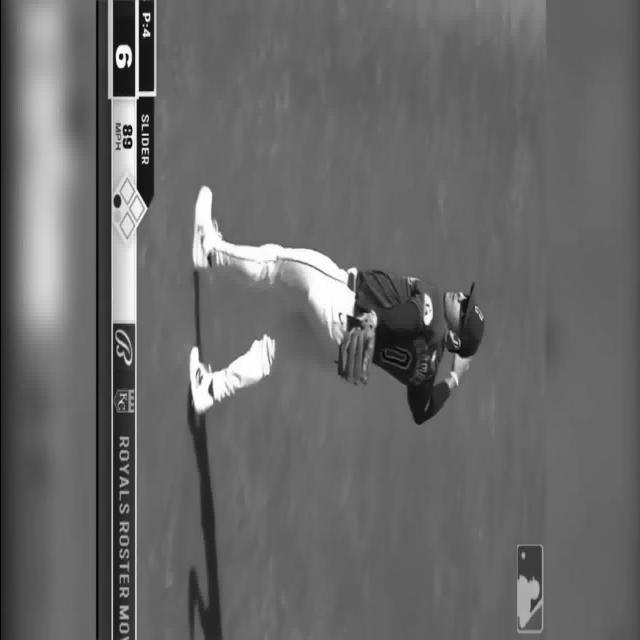baseball_glove: (336, 310, 376, 386)
shoe: (192, 184, 220, 270), (188, 345, 214, 415)
